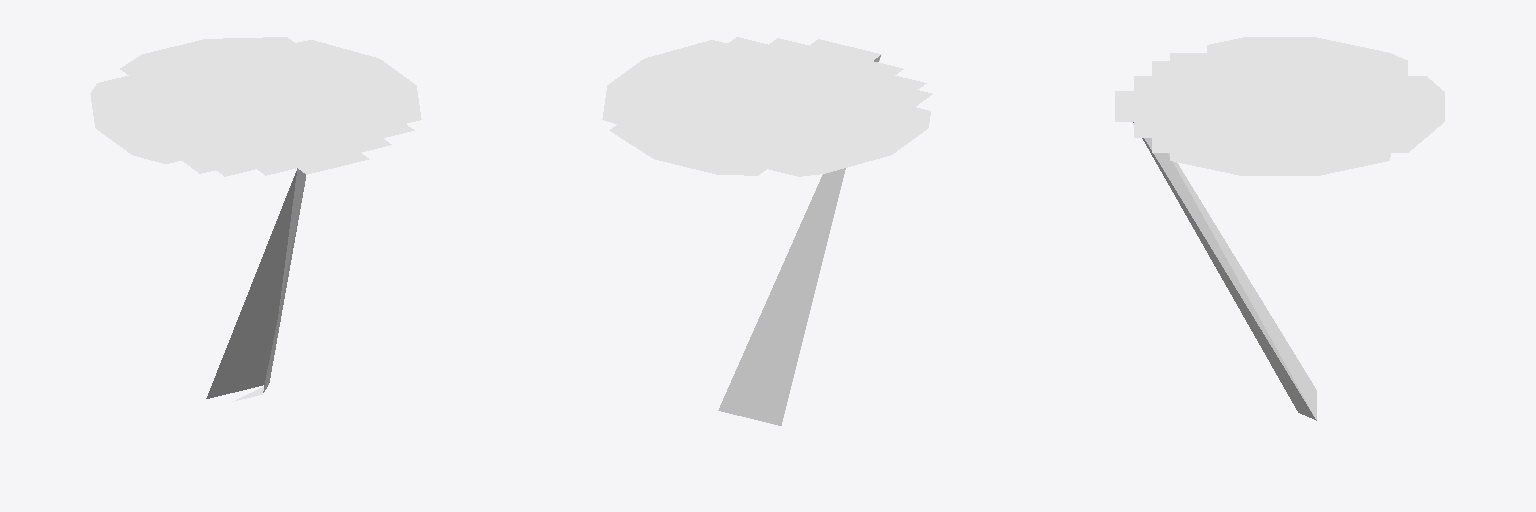
Rendered from lounge_table.obj.
3 views of the same model, side by side, from view 1: azimuth 30°, elevation 25°; view 2: azimuth 150°, elevation 25°; view 3: azimuth 270°, elevation 25° (orthographic).
Bounding box in the file's own units: 18 × 18 × 18.